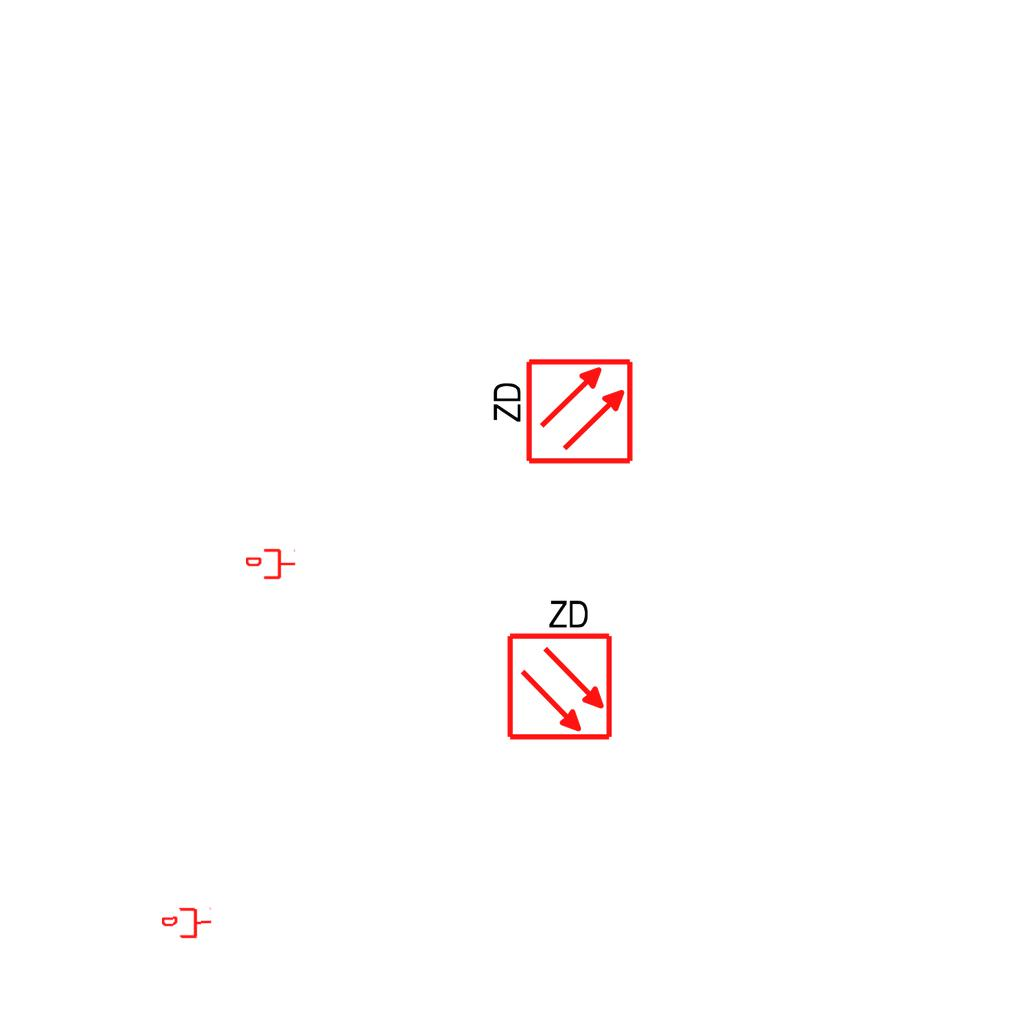Datenanschluss_einfach: (161, 905, 213, 941), (246, 547, 296, 581)
ZD_Melder_in_Zwischendecke_mit_Revisionsoeffnung_mind_40_x_40_cm: (486, 356, 635, 470), (501, 593, 615, 742)
